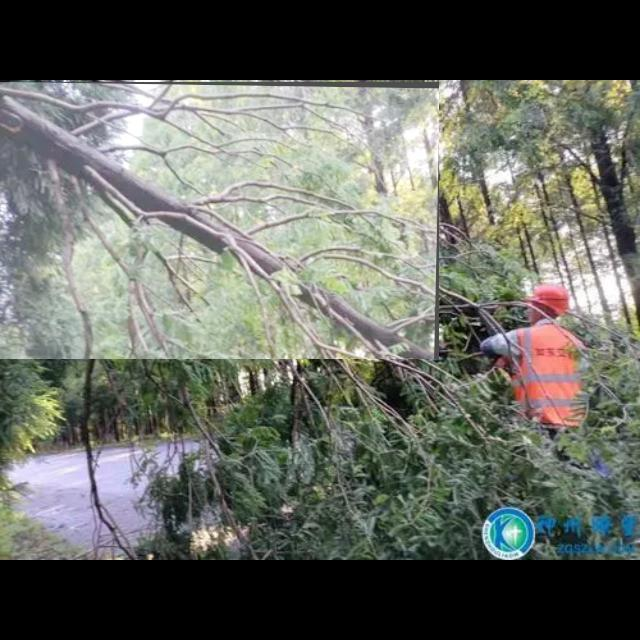fallen_tree: (0, 82, 440, 360)
